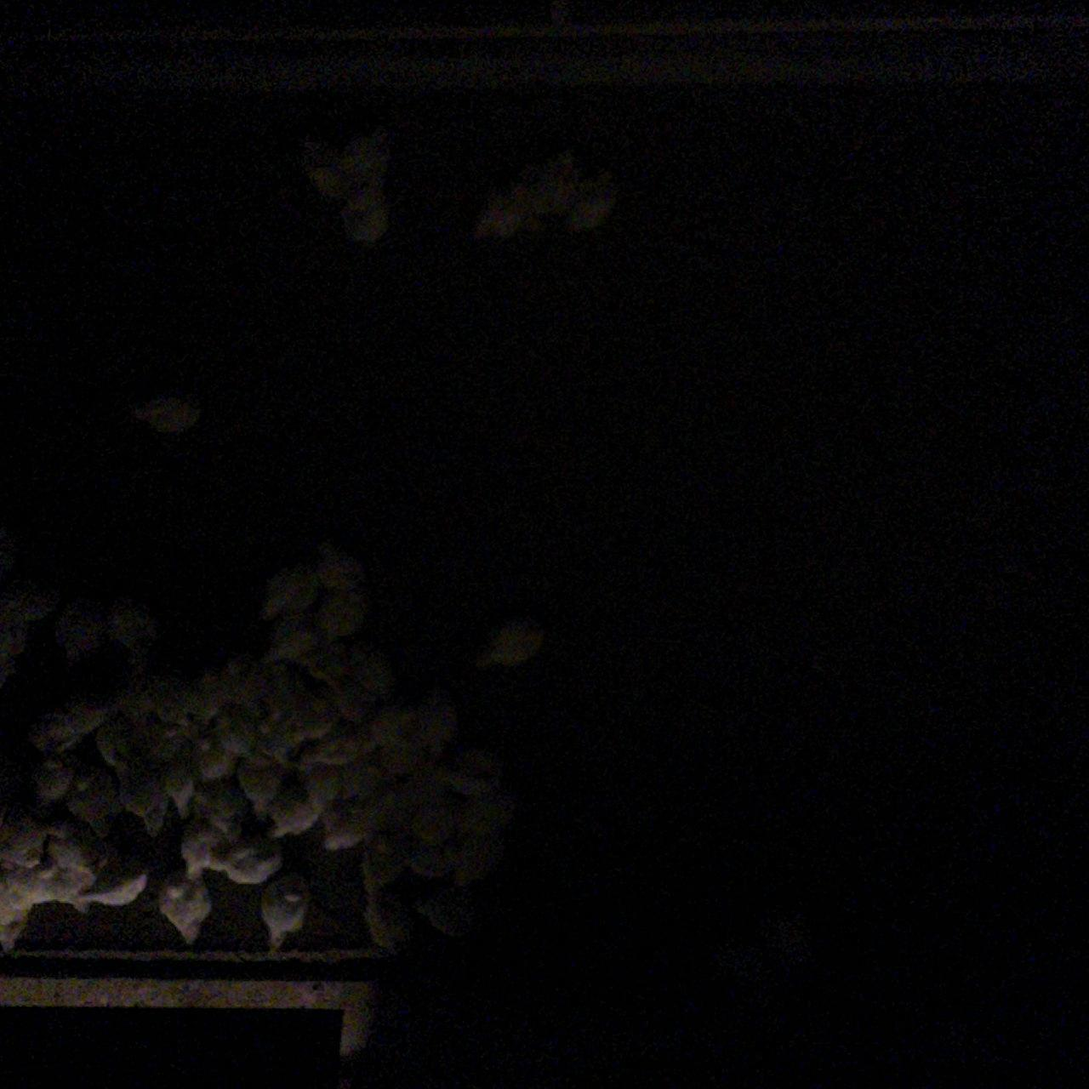chicken: (157, 863, 214, 945), (260, 872, 308, 955), (60, 778, 122, 838), (305, 662, 370, 719), (140, 683, 216, 730), (402, 684, 454, 750), (78, 864, 153, 909), (294, 723, 369, 767), (322, 798, 384, 850), (214, 838, 278, 886), (338, 644, 396, 696), (307, 590, 367, 640), (485, 621, 550, 667), (125, 779, 174, 840), (266, 785, 327, 833), (232, 750, 283, 807), (361, 893, 409, 953), (3, 868, 84, 903), (187, 736, 239, 790), (259, 565, 316, 614), (217, 664, 269, 717), (90, 720, 140, 773), (365, 706, 419, 754), (413, 888, 468, 932), (41, 704, 110, 738), (35, 750, 73, 807), (1, 824, 56, 863), (178, 819, 214, 876), (364, 841, 405, 891), (316, 550, 360, 595), (260, 623, 308, 664), (1, 900, 30, 955), (44, 843, 95, 872)
